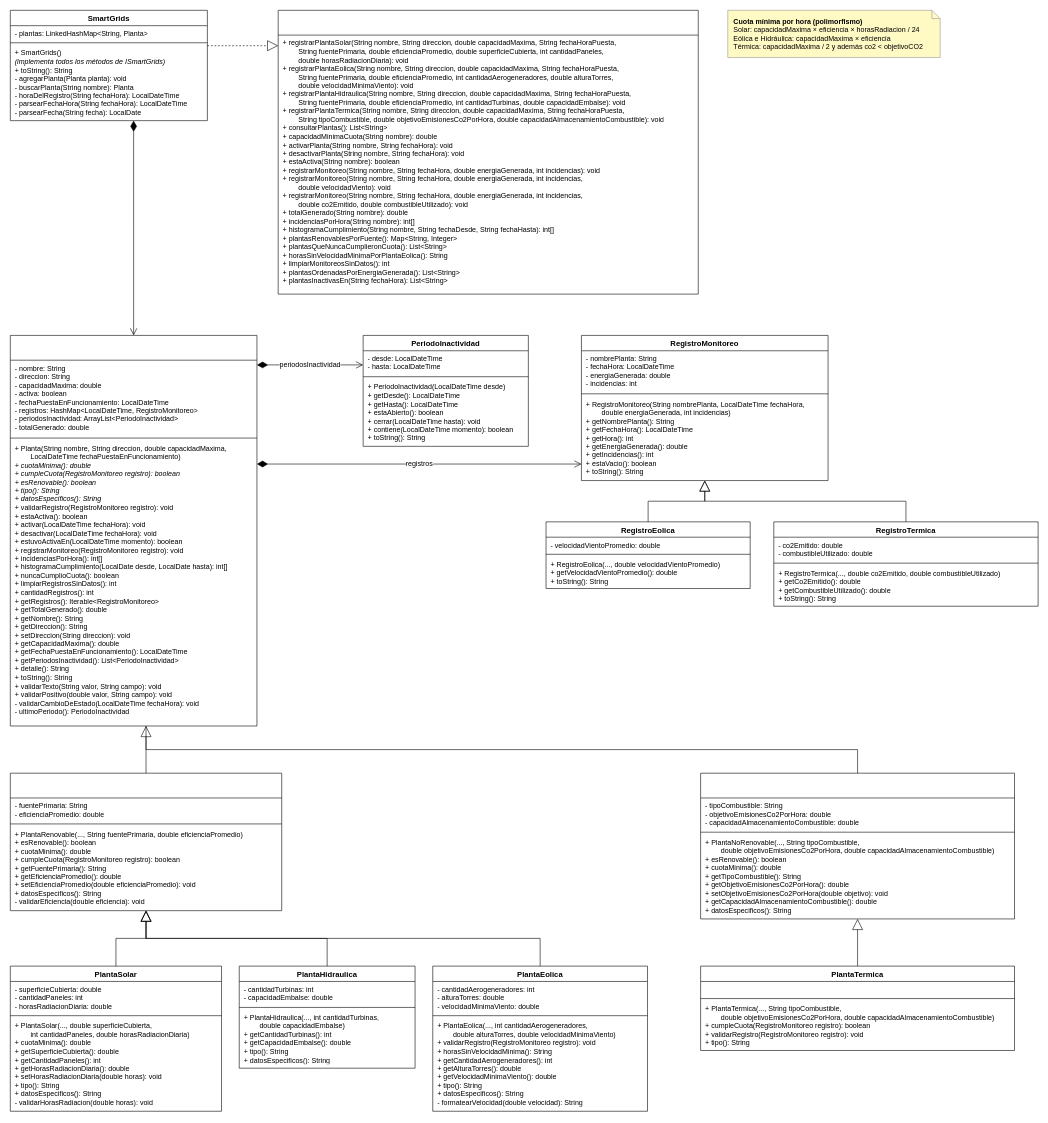
Image size: 1048x1123. Some labels were removed from this diagram. Here are the shapes that lost their labels. From the top down, the box of each, then its label:
(278, 10, 698, 294): «interface» ISmartGrids
(10, 335, 257, 726): «abstract» Planta
(10, 773, 282, 911): «abstract» PlantaRenovable
(700, 773, 1015, 919): «abstract» PlantaNoRenovable
